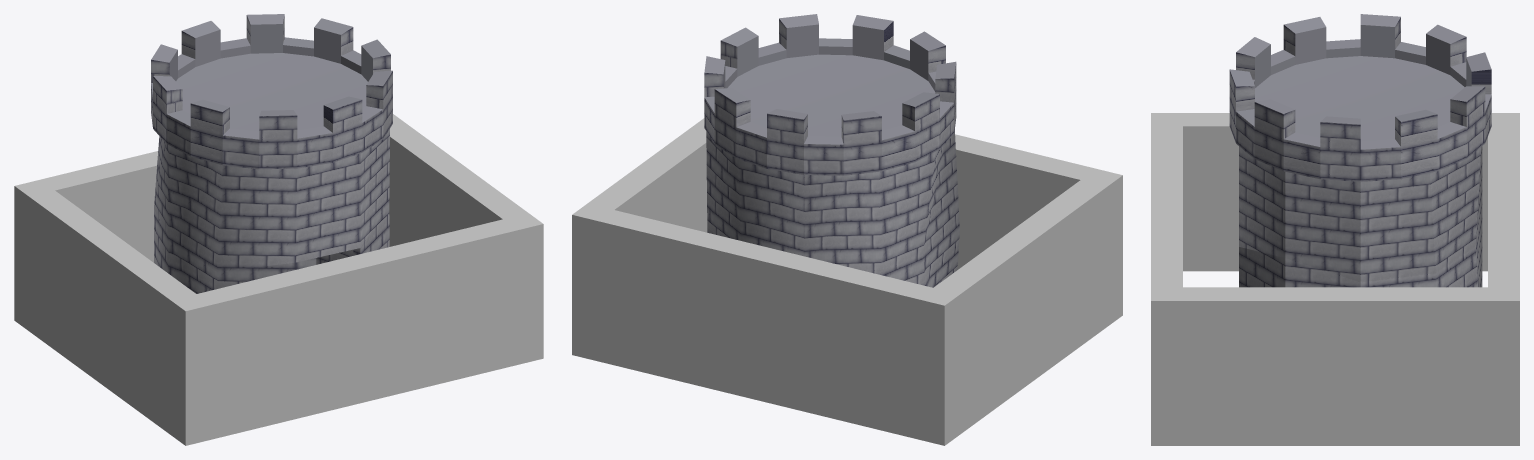
The model's file is Tower_1.fbx.
3 views of the same model, side by side, from view 1: azimuth 30°, elevation 25°; view 2: azimuth 150°, elevation 25°; view 3: azimuth 270°, elevation 25° (orthographic). The views are drawn at different scales.
Visible parts, largest first — view 1: pCube13, pCube5, polySurface4, polySurface1, pCube12, pCube7; view 2: pCube7, pCube5, polySurface4, polySurface1, pCube12, pCube13; view 3: pCube12, polySurface4, polySurface1, pCube5, pCube13, pCube7.
Part boxes in pixels (<box>): pCube13: <box>197,219,517,439</box>; pCube5: <box>14,180,211,445</box>; polySurface4: <box>151,14,392,169</box>; polySurface1: <box>154,129,389,293</box>; pCube12: <box>389,114,543,364</box>; pCube7: <box>40,151,158,262</box>; pCube7: <box>598,210,932,439</box>; pCube5: <box>918,168,1122,445</box>; polySurface4: <box>704,14,956,175</box>; polySurface1: <box>706,129,959,287</box>; pCube12: <box>572,118,707,361</box>; pCube13: <box>955,134,1095,269</box>; pCube12: <box>1151,287,1519,445</box>; polySurface4: <box>1229,14,1491,181</box>; polySurface1: <box>1239,146,1482,287</box>; pCube5: <box>1151,113,1519,271</box>; pCube13: <box>1151,126,1182,287</box>; pCube7: <box>1488,126,1519,287</box>.
Size of the model in its own units: 4173 by 2951 by 3458.
